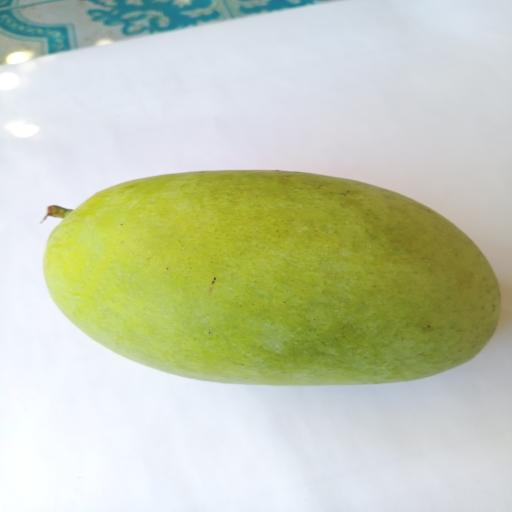mango-unripe: (19, 160, 507, 398)
